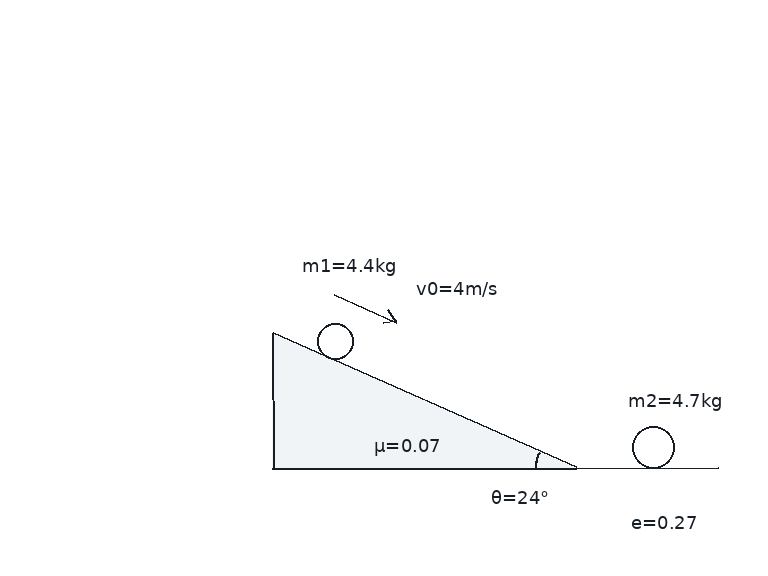ball: (630, 424, 676, 470), (315, 321, 355, 361)
ramp: (271, 331, 578, 470)
